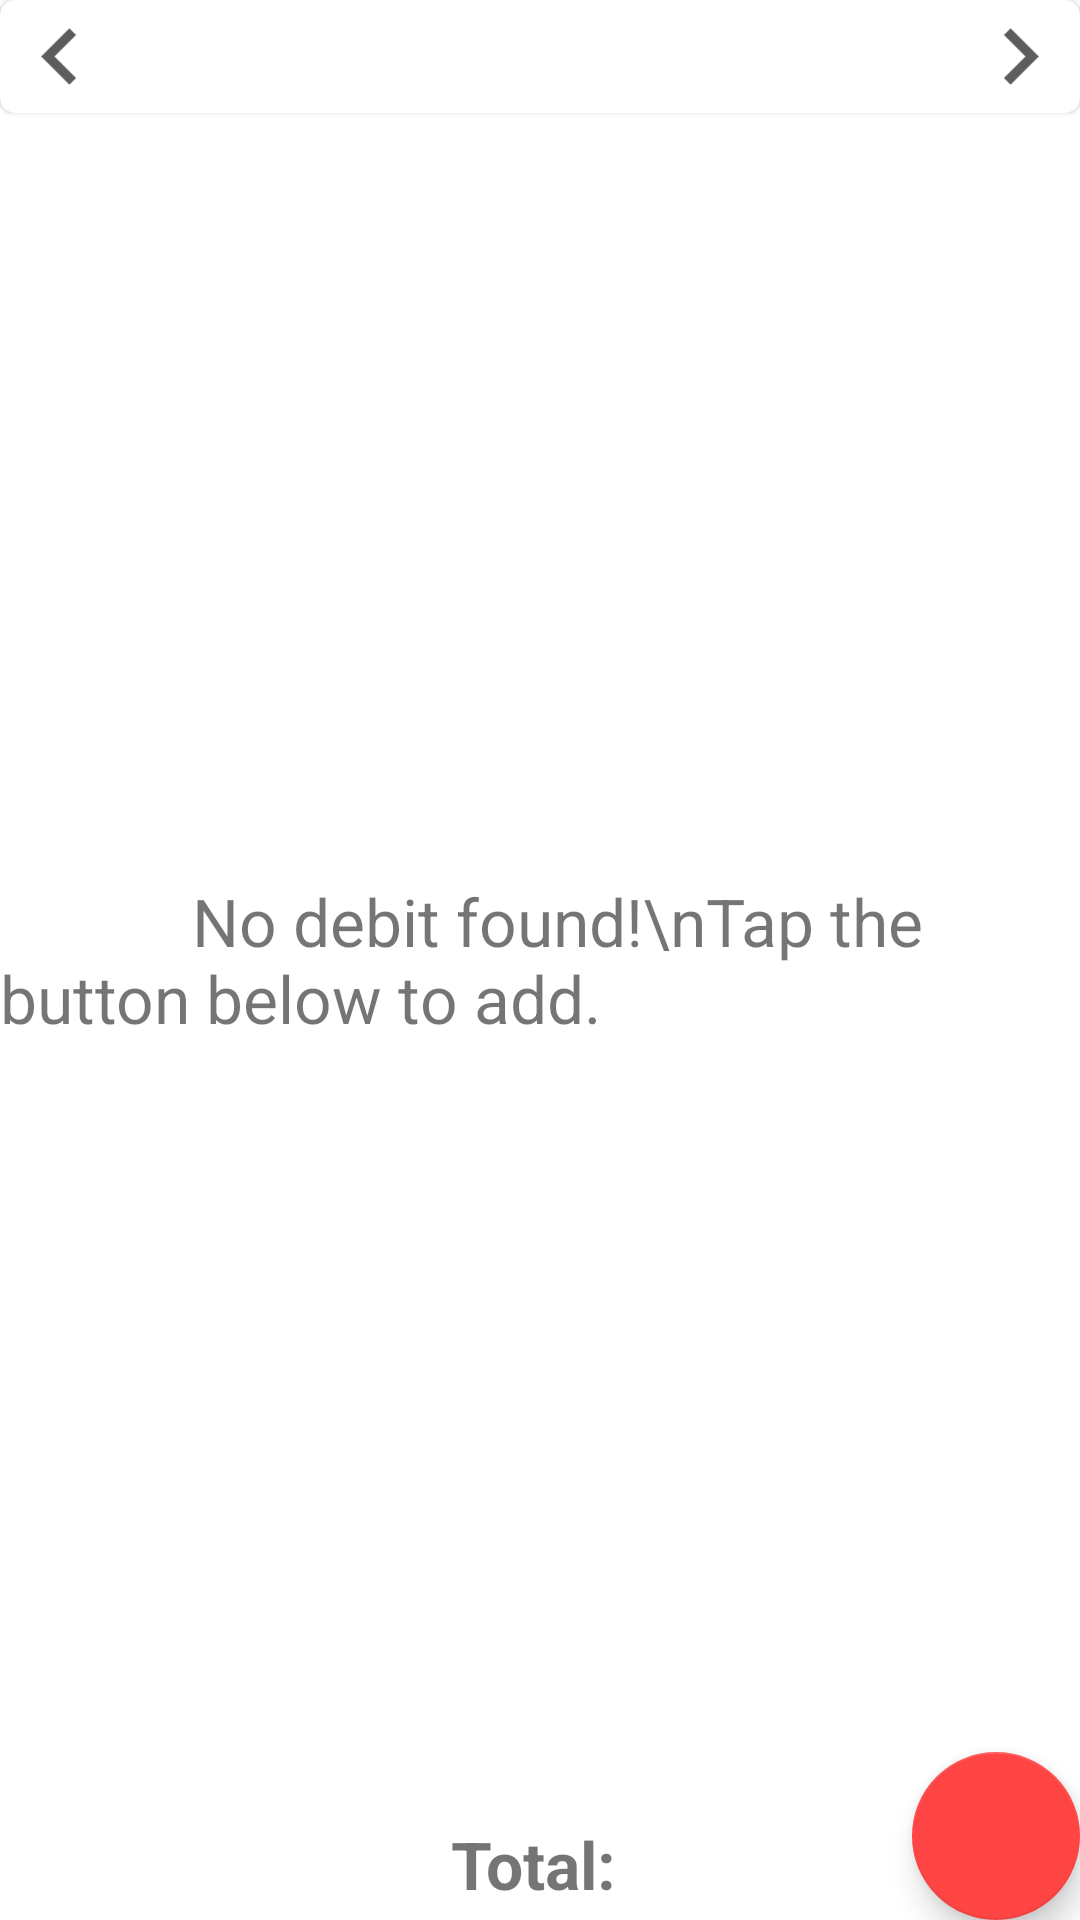

Where icons sit on this 1080×1920 app screen, as detection(x1, y1, x2, y2):
chevron left: detection(0, 9, 76, 112)
chevron right: detection(1004, 9, 1080, 112)
